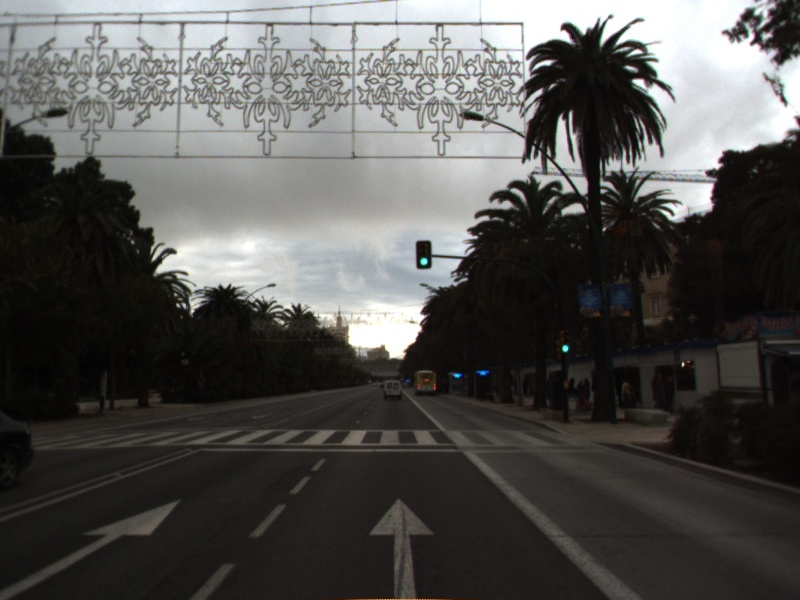STRAIGHT: (1, 497, 184, 600), (367, 496, 437, 600)
